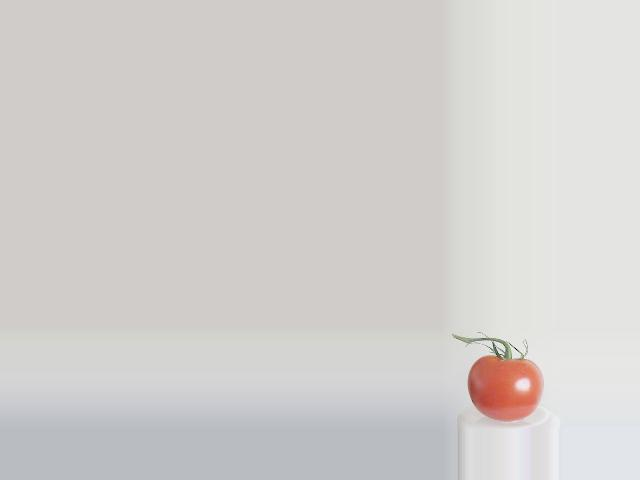tomato: (466, 355, 543, 421)
